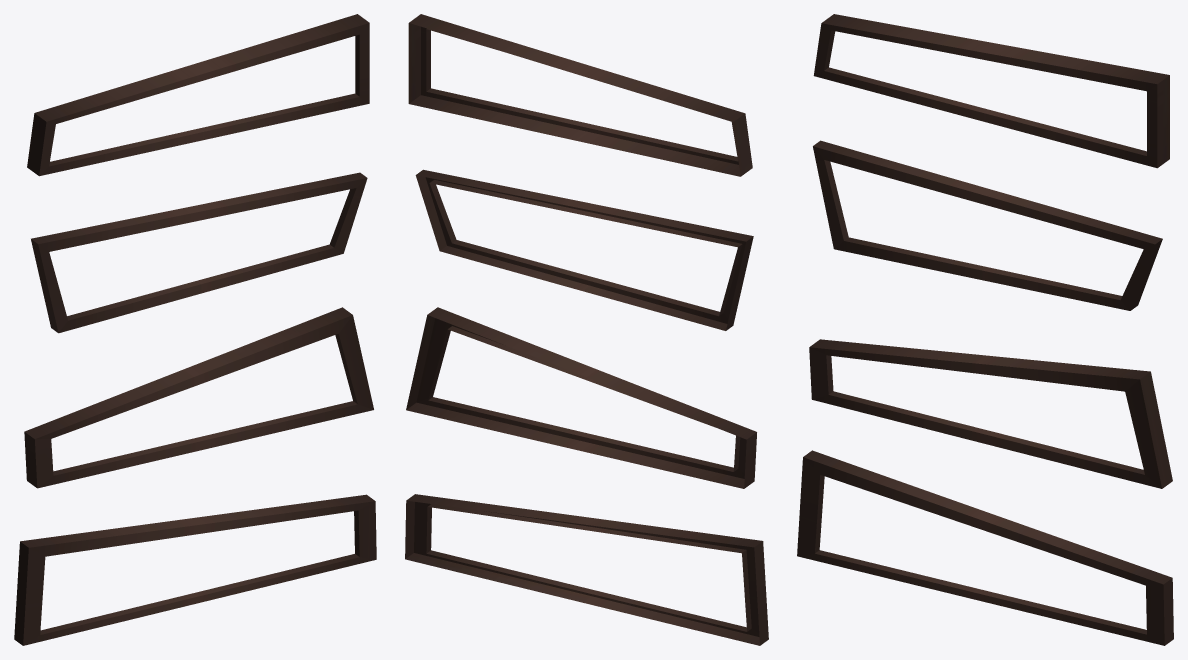
The model's file is SM_Level7_frame2.fbx.
The picture shows the model from 3 angles, left to right: view 1: azimuth 30°, elevation 25°; view 2: azimuth 150°, elevation 25°; view 3: azimuth 330°, elevation 25°; orthographic projection. The views are drawn at different scales.
Visible parts, largest first — view 1: polySurface1; view 2: polySurface1; view 3: polySurface1.
Boxes of the visible parts, x1,y1,x2,y2 form: polySurface1: [14, 14, 376, 645]; polySurface1: [405, 14, 768, 645]; polySurface1: [797, 14, 1173, 645].
Bounding box in the file's own units: 5.36 × 7.8 × 0.3182.
